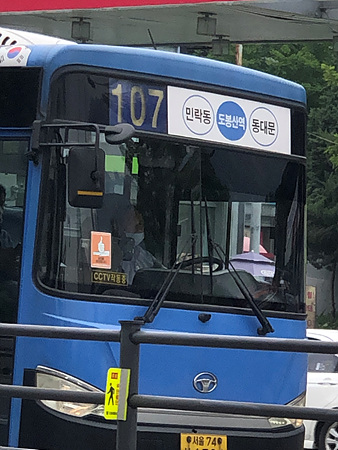bnum: (107, 79, 168, 133)
